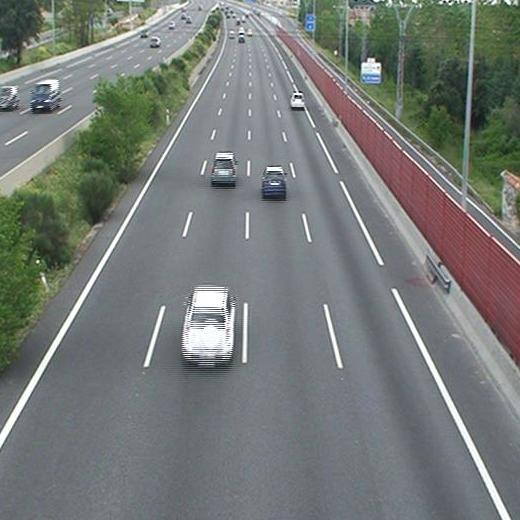car: (182, 286, 234, 365), (211, 153, 236, 181), (262, 167, 285, 195), (290, 92, 304, 108), (238, 35, 245, 42)
